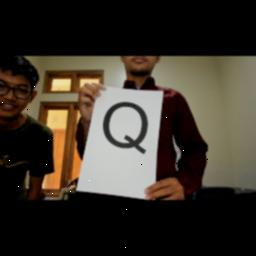q: (99, 96, 157, 164)
